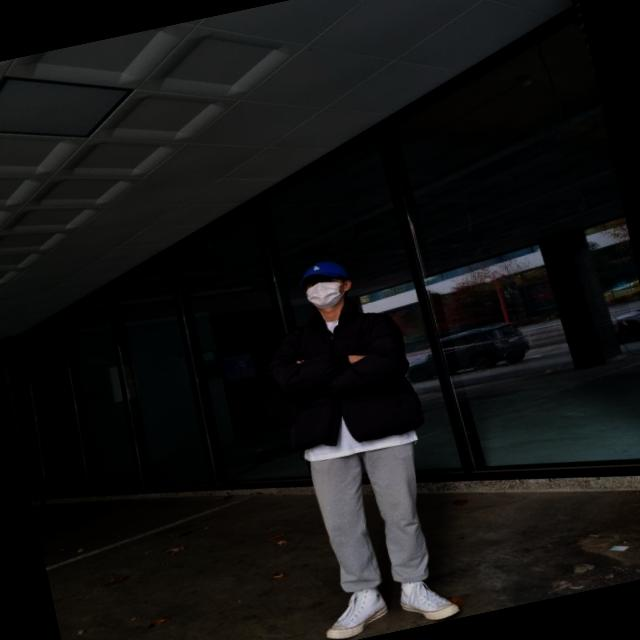padding: (257, 286, 429, 458)
trainingpants: (306, 428, 442, 598)
